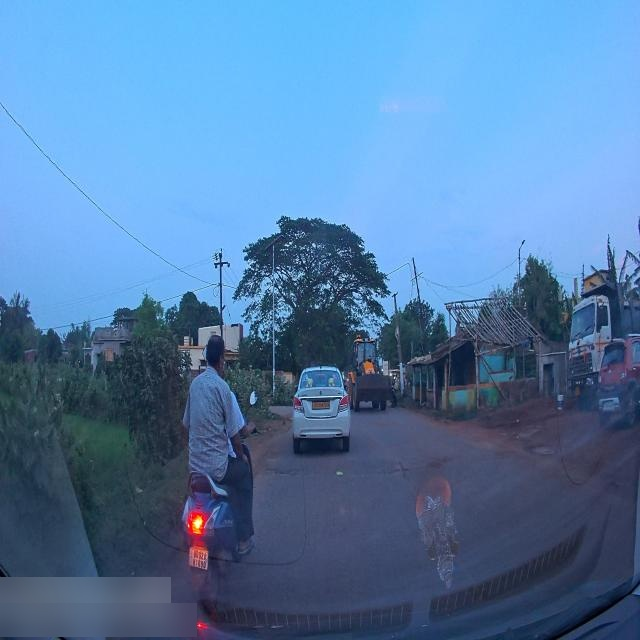pothole: (525, 444, 556, 458), (266, 467, 298, 478), (391, 462, 410, 477)
